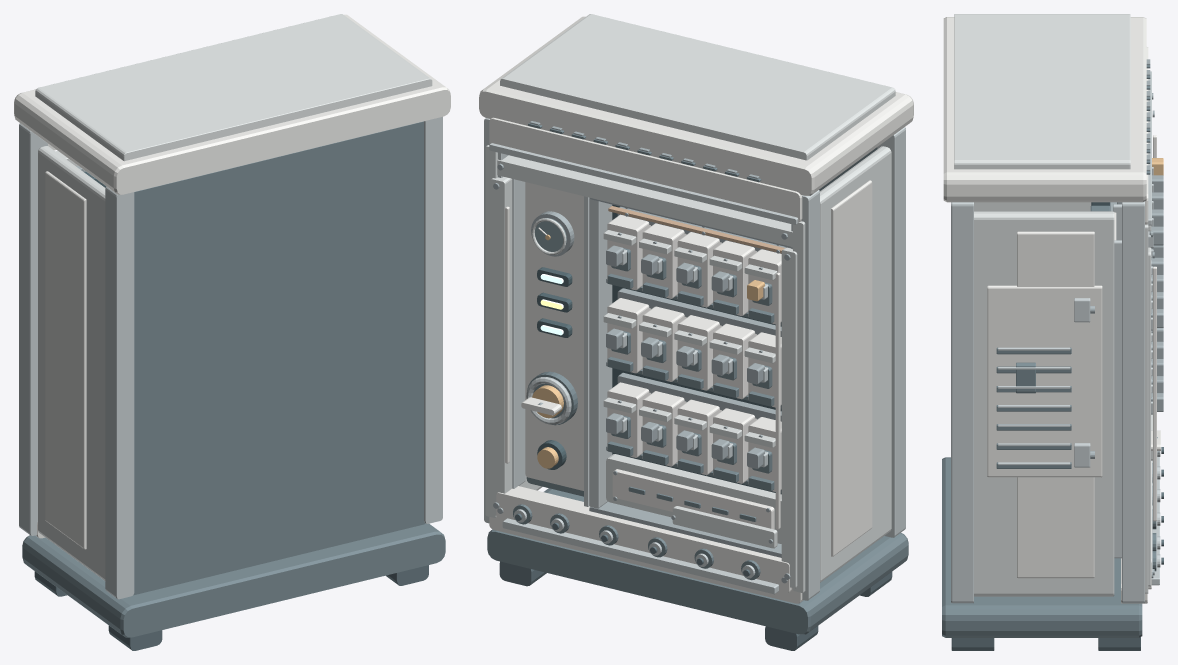
File: power_distribution_panel.glb
3 views of the same model, side by side, from view 1: azimuth 30°, elevation 25°; view 2: azimuth 150°, elevation 25°; view 3: azimuth 270°, elevation 25° (orthographic).
Parts seen in each view (by area): view 1: Chassis_and_Static_Details__dark, Chassis_and_Static_Details__lightgrey, Chassis_and_Static_Details__white, Chassis_and_Static_Details__aluminium, Chassis_and_Static_Details__rubber; view 2: Chassis_and_Static_Details__lightgrey, Chassis_and_Static_Details__white, Chassis_and_Static_Details__aluminium, Chassis_and_Static_Details__warmwhite, Chassis_and_Static_Details__dark, Chassis_and_Static_Details__steel, Chassis_and_Static_Details__shadow, Chassis_and_Static_Details__rubber, Chassis_and_Static_Details__copper, Chassis_and_Static_Details__glass; view 3: Chassis_and_Static_Details__lightgrey, Chassis_and_Static_Details__aluminium, Chassis_and_Static_Details__white, Inspection_Door__white, Chassis_and_Static_Details__dark, Chassis_and_Static_Details__rubber, Chassis_and_Static_Details__warmwhite, Chassis_and_Static_Details__steel, Inspection_Door__dark.
Part boxes in pixels (x1,y1,x2,y2): Chassis_and_Static_Details__dark: [22, 121, 445, 637]; Chassis_and_Static_Details__lightgrey: [35, 14, 432, 580]; Chassis_and_Static_Details__white: [14, 14, 450, 549]; Chassis_and_Static_Details__aluminium: [19, 116, 442, 599]; Chassis_and_Static_Details__rubber: [34, 565, 428, 650]; Chassis_and_Static_Details__lightgrey: [485, 14, 895, 592]; Chassis_and_Static_Details__white: [479, 16, 913, 603]; Chassis_and_Static_Details__aluminium: [484, 118, 905, 600]; Chassis_and_Static_Details__warmwhite: [505, 206, 781, 529]; Chassis_and_Static_Details__dark: [487, 123, 908, 634]; Chassis_and_Static_Details__steel: [493, 121, 791, 583]; Chassis_and_Static_Details__shadow: [537, 204, 781, 494]; Chassis_and_Static_Details__rubber: [499, 513, 892, 650]; Chassis_and_Static_Details__copper: [608, 206, 784, 253]; Chassis_and_Static_Details__glass: [535, 218, 566, 251]; Chassis_and_Static_Details__lightgrey: [954, 14, 1152, 596]; Chassis_and_Static_Details__aluminium: [951, 71, 1160, 603]; Chassis_and_Static_Details__white: [943, 17, 1151, 603]; Inspection_Door__white: [987, 285, 1102, 477]; Chassis_and_Static_Details__dark: [942, 64, 1156, 637]; Chassis_and_Static_Details__rubber: [951, 447, 1163, 650]; Chassis_and_Static_Details__warmwhite: [1153, 135, 1156, 521]; Chassis_and_Static_Details__steel: [1090, 59, 1159, 578]; Inspection_Door__dark: [1016, 362, 1035, 393].
Size of the model in its own units: 1.44 by 2.04 by 0.831.
